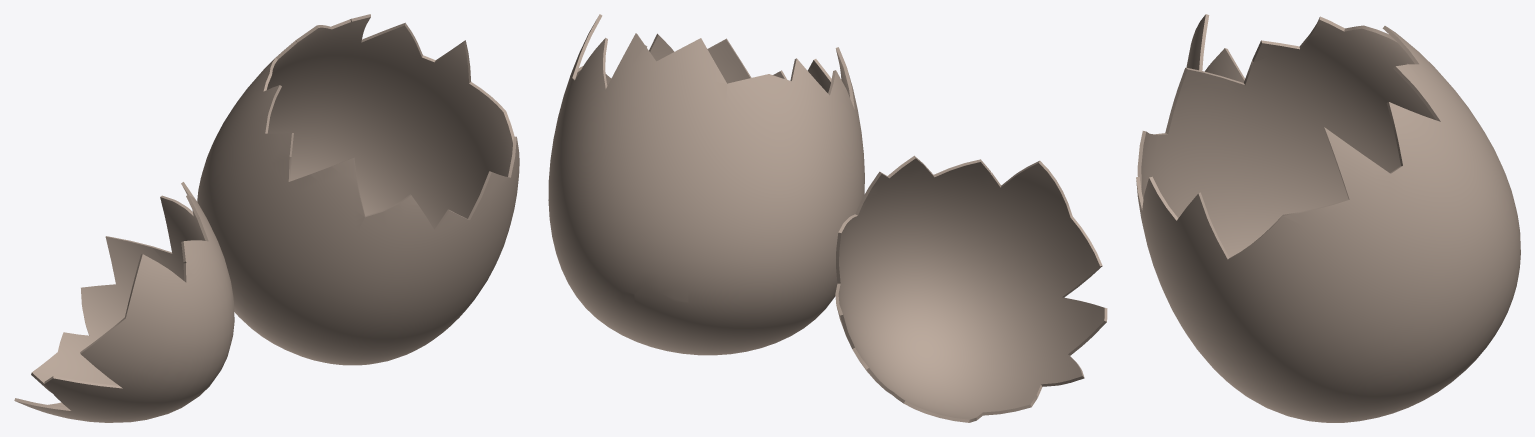
The model's file is eggs.glb.
3 renders of one model, left to right at view 1: azimuth 30°, elevation 25°; view 2: azimuth 150°, elevation 25°; view 3: azimuth 270°, elevation 25°, orthographic. The views are drawn at different scales.
Visible parts, largest first — view 1: Mesh_Default_0; view 2: Mesh_Default_0; view 3: Mesh_Default_0.
Boxes of the visible parts, bbox=[...] form: Mesh_Default_0: bbox=[14, 14, 519, 422]; Mesh_Default_0: bbox=[548, 14, 1107, 422]; Mesh_Default_0: bbox=[1136, 14, 1520, 422].
Bounding box in the file's own units: 156 × 95.56 × 90.29.
